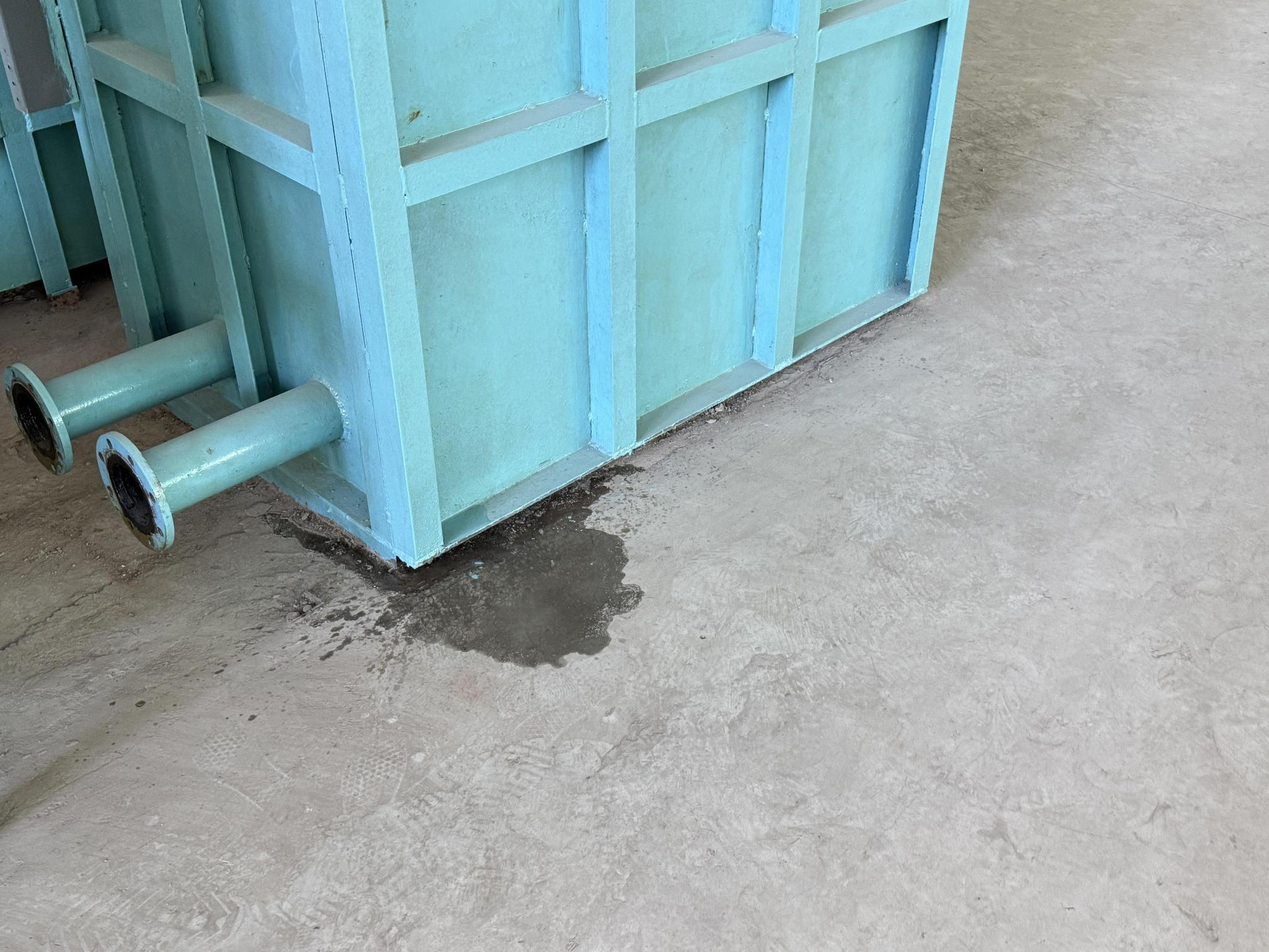water accumulation: (270, 466, 642, 667)
